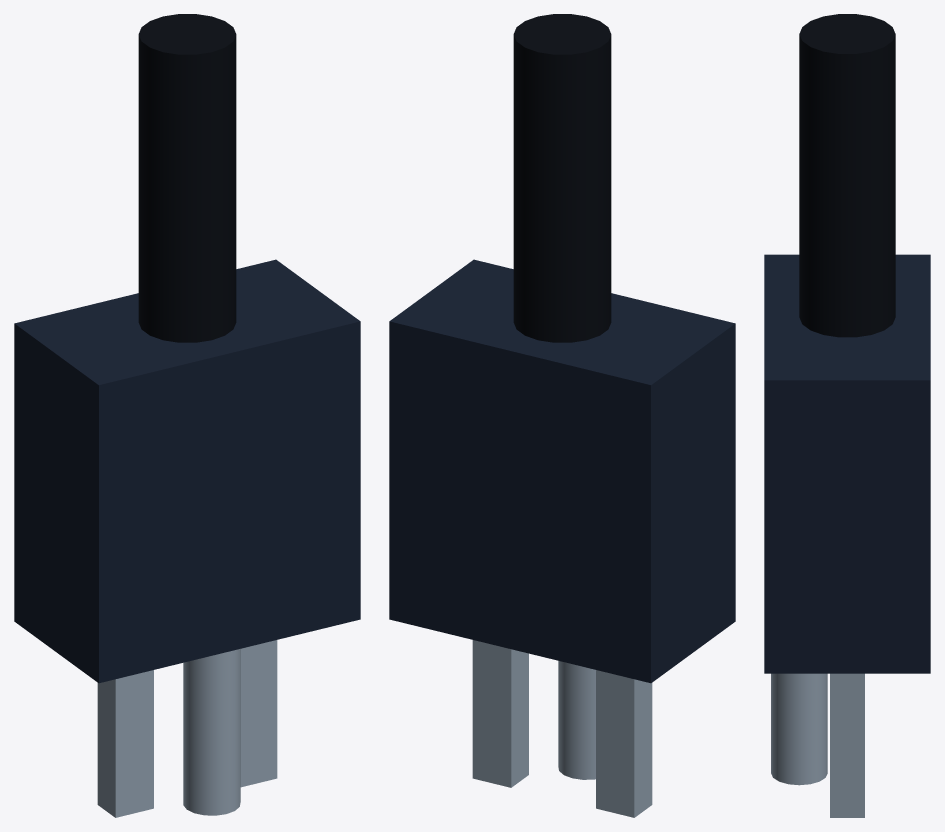
Rendered from plug-grounded.glb.
3 renders of one model, left to right at view 1: azimuth 30°, elevation 25°; view 2: azimuth 150°, elevation 25°; view 3: azimuth 270°, elevation 25°, orthographic.
Parts seen in each view (by area): view 1: Grounded plug, cord; view 2: Grounded plug, cord; view 3: Grounded plug, cord.
Boxes of the visible parts, bbox=[...] form: Grounded plug: bbox=[14, 259, 360, 817]; cord: bbox=[138, 14, 236, 342]; Grounded plug: bbox=[389, 259, 735, 817]; cord: bbox=[513, 14, 611, 342]; Grounded plug: bbox=[764, 254, 930, 817]; cord: bbox=[799, 14, 895, 337].
Size of the model in its own units: 0.68 by 1.88 by 0.38.
